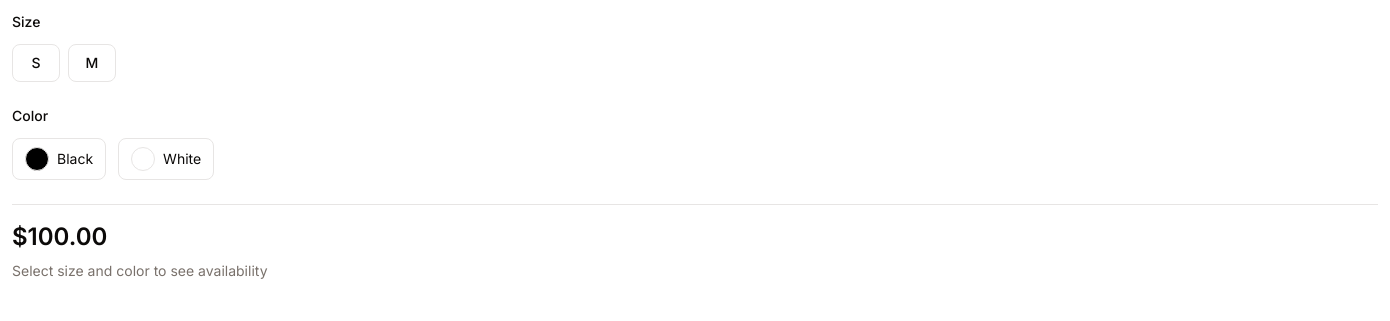
Scenario: VariantSelector › displays SKU for selected variant
The width and height of the screenshot is (1390, 321).
Note: Select S and Black
Click the radio button labelled "S" at (36, 63), box left=12, top=44, right=60, bottom=82
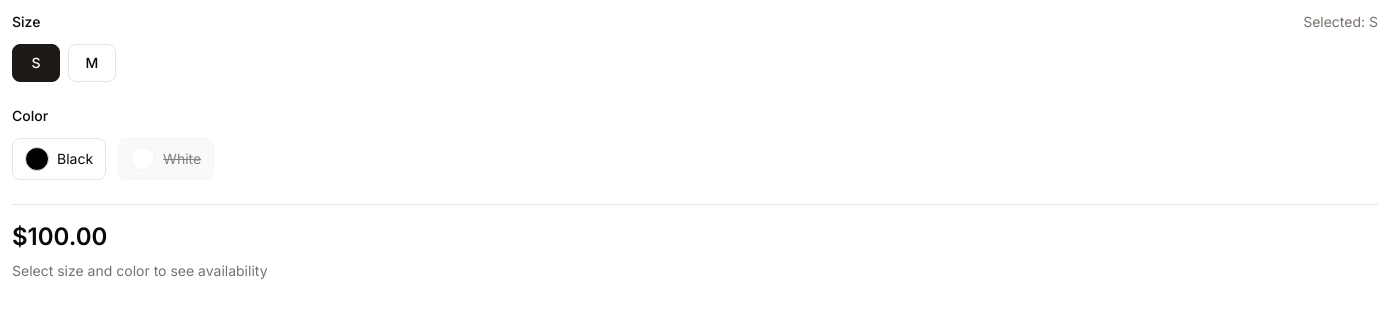
Click the radio button labelled "Black" at (59, 159), box left=12, top=138, right=106, bottom=180
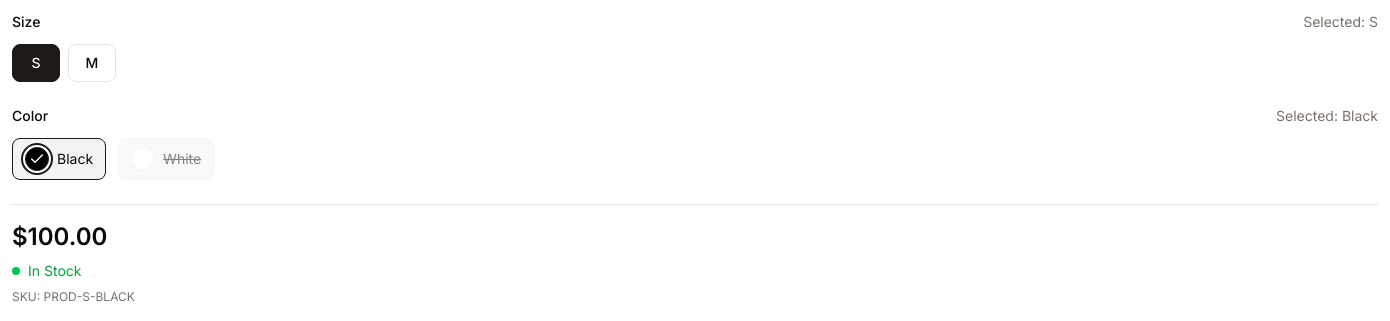
Expected: the text "SKU: PROD-S-BLACK" is shown, left=12, top=289, right=135, bottom=304
